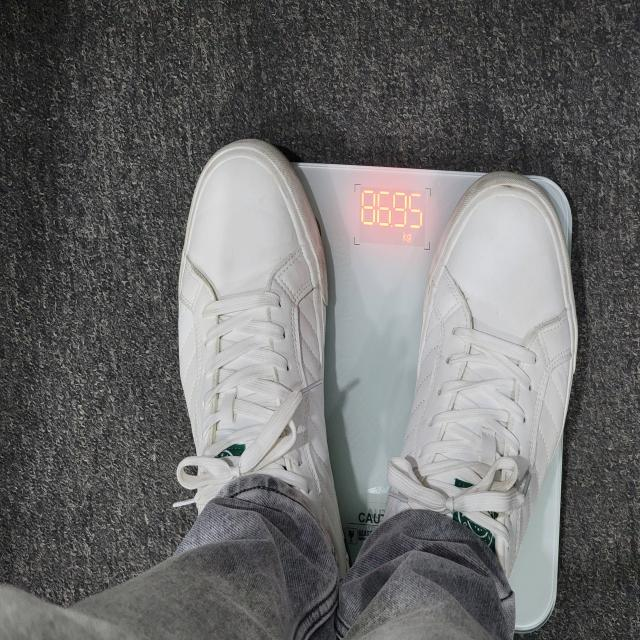ws: (345, 168, 475, 328)
